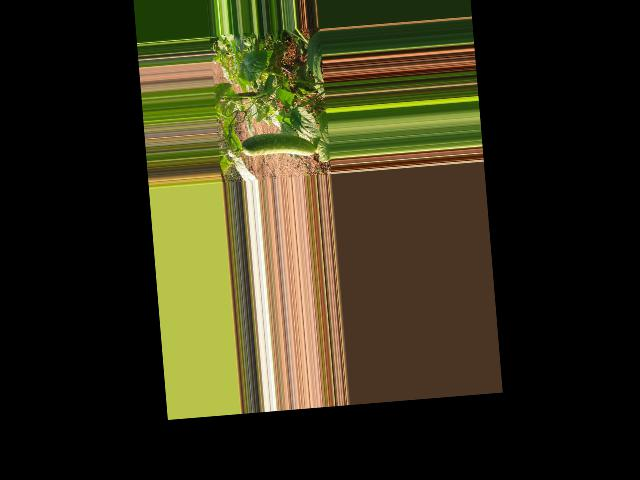cucumber: (241, 130, 316, 161)
